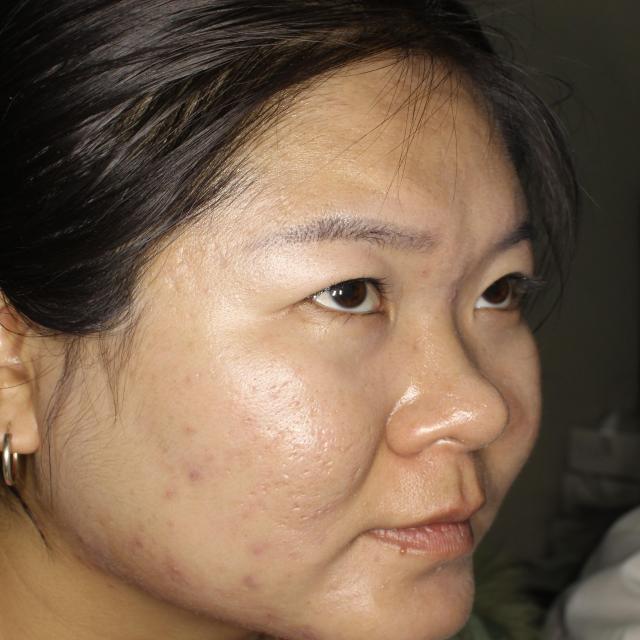pustule: (119, 528, 161, 568), (180, 410, 210, 450), (65, 519, 90, 557), (184, 459, 208, 495), (260, 602, 290, 630), (164, 552, 183, 584), (242, 570, 265, 591), (250, 536, 265, 567)
